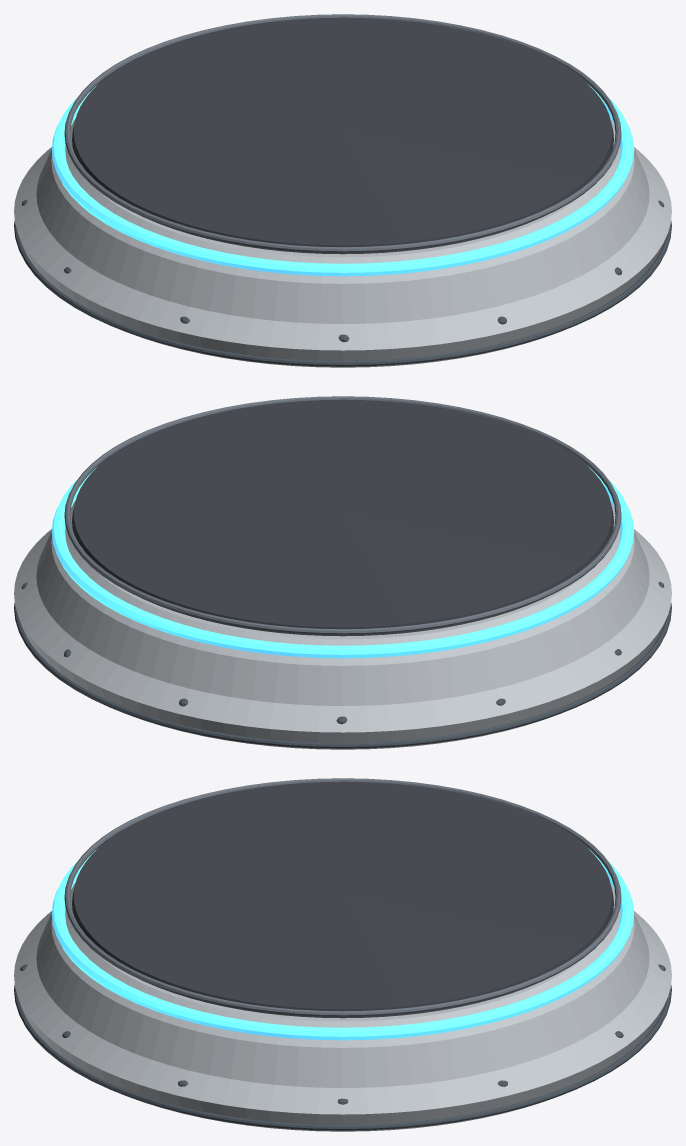
File: podium_blue.glb
3 views of the same model, one above another, from view 1: azimuth 30°, elevation 25°; view 2: azimuth 150°, elevation 25°; view 3: azimuth 270°, elevation 25° (orthographic).
Visible parts, largest first — view 1: PODIUM_charcoal, PODIUM_brushed_silver, PODIUM_blue, PODIUM_gunmetal, PODIUM_dark_steel; view 2: PODIUM_charcoal, PODIUM_brushed_silver, PODIUM_blue, PODIUM_gunmetal, PODIUM_dark_steel; view 3: PODIUM_charcoal, PODIUM_brushed_silver, PODIUM_blue, PODIUM_gunmetal, PODIUM_dark_steel.
Part boxes in pixels (left/top/right/bottom): PODIUM_charcoal: left=72, top=17, right=613, bottom=254; PODIUM_brushed_silver: left=14, top=118, right=671, bottom=367; PODIUM_blue: left=51, top=84, right=634, bottom=276; PODIUM_gunmetal: left=64, top=14, right=621, bottom=252; PODIUM_dark_steel: left=14, top=200, right=671, bottom=366; PODIUM_charcoal: left=72, top=399, right=613, bottom=636; PODIUM_brushed_silver: left=14, top=500, right=671, bottom=749; PODIUM_blue: left=51, top=466, right=634, bottom=658; PODIUM_gunmetal: left=64, top=396, right=621, bottom=634; PODIUM_dark_steel: left=14, top=582, right=671, bottom=748; PODIUM_charcoal: left=72, top=781, right=613, bottom=1018; PODIUM_brushed_silver: left=14, top=882, right=671, bottom=1131; PODIUM_blue: left=51, top=848, right=634, bottom=1040; PODIUM_gunmetal: left=64, top=778, right=621, bottom=1016; PODIUM_dark_steel: left=14, top=964, right=671, bottom=1130.
Bounding box in the file's own units: 1.76 × 0.32 × 1.76.
